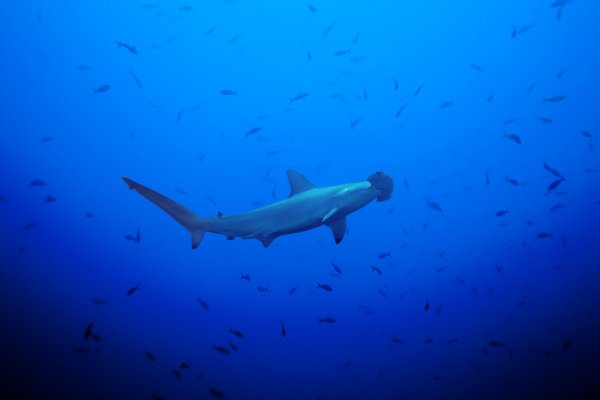Hammer: (94, 140, 408, 268)
